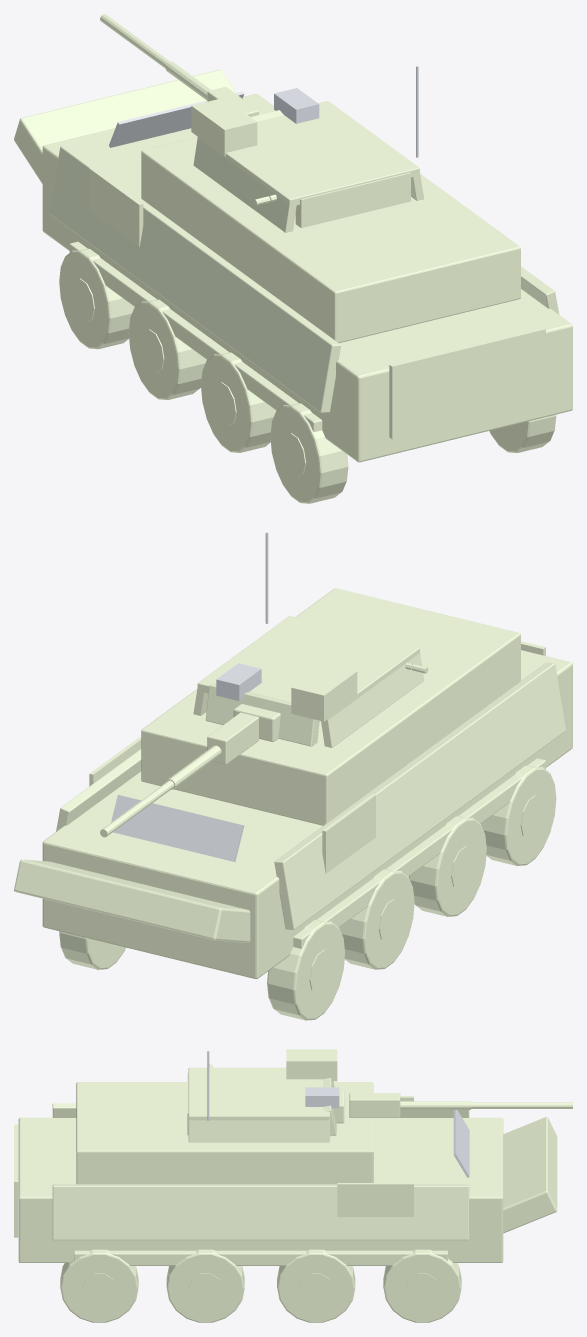
File: apc.glb
The picture shows the model from 3 angles, top to bottom: view 1: azimuth 30°, elevation 25°; view 2: azimuth 150°, elevation 25°; view 3: azimuth 270°, elevation 25°; orthographic projection. The views are drawn at different scales.
Parts seen in each view (by area): view 1: HullUpper, Hull, HullSlope-1, Turret, RearDoor, Bow, Wheel3L_Tire, Wheel1L_Tire, Wheel0L_Tire, Wheel2L_Tire, WheelArch-1, AmmoBoxL (+10 smaller); view 2: HullUpper, Hull, HullSlope-1, Turret, Bow, Wheel0L_Tire, GlassFront, Wheel2L_Tire, Wheel3L_Tire, Wheel1L_Tire, WheelArch-1, CannonTube (+10 smaller); view 3: Hull, HullSlope1, HullUpper, Turret, Bow, Wheel3R_Tire, Wheel0R_Tire, Wheel1R_Tire, Wheel2R_Tire, WheelArch1, CannonTube, DoorSlot1 (+9 smaller).
Boxes of the visible parts, x1=… form: HullUpper: x1=141, y1=137, x2=520, y2=342; Hull: x1=42, y1=94, x2=572, y2=462; HullSlope-1: x1=49, y1=146, x2=340, y2=412; Turret: x1=193, y1=101, x2=424, y2=232; RearDoor: x1=389, y1=327, x2=545, y2=439; Bow: x1=14, y1=69, x2=236, y2=183; Wheel3L_Tire: x1=270, y1=403, x2=348, y2=503; Wheel1L_Tire: x1=128, y1=299, x2=206, y2=399; Wheel0L_Tire: x1=59, y1=248, x2=134, y2=349; Wheel2L_Tire: x1=201, y1=352, x2=276, y2=452; WheelArch-1: x1=69, y1=241, x2=322, y2=431; AmmoBoxL: x1=191, y1=98, x2=257, y2=156; HullUpper: x1=141, y1=588, x2=520, y2=825; Hull: x1=42, y1=650, x2=572, y2=978; HullSlope-1: x1=274, y1=662, x2=566, y2=929; Turret: x1=193, y1=616, x2=428, y2=747; Bow: x1=14, y1=859, x2=250, y2=942; Wheel0L_Tire: x1=267, y1=920, x2=345, y2=1020; GlassFront: x1=111, y1=795, x2=244, y2=861; Wheel2L_Tire: x1=409, y1=816, x2=486, y2=916; Wheel3L_Tire: x1=481, y1=765, x2=556, y2=865; Wheel1L_Tire: x1=339, y1=869, x2=414, y2=969; WheelArch-1: x1=293, y1=758, x2=545, y2=948; CannonTube: x1=100, y1=712, x2=258, y2=837; Hull: x1=18, y1=1117, x2=503, y2=1262; HullSlope1: x1=52, y1=1184, x2=469, y2=1240; HullUpper: x1=76, y1=1082, x2=373, y2=1184; Turret: x1=187, y1=1063, x2=344, y2=1142; Bow: x1=503, y1=1117, x2=557, y2=1233; Wheel3R_Tire: x1=60, y1=1249, x2=138, y2=1322; Wheel0R_Tire: x1=383, y1=1249, x2=461, y2=1322; Wheel1R_Tire: x1=277, y1=1249, x2=355, y2=1322; Wheel2R_Tire: x1=166, y1=1249, x2=244, y2=1322; WheelArch1: x1=74, y1=1250, x2=447, y2=1265; CannonTube: x1=349, y1=1093, x2=572, y2=1117; DoorSlot1: x1=337, y1=1183, x2=413, y2=1216.
Bounding box in the file's own units: 2.55 × 3.32 × 6.58.
